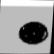correct: (17, 20, 51, 47)
